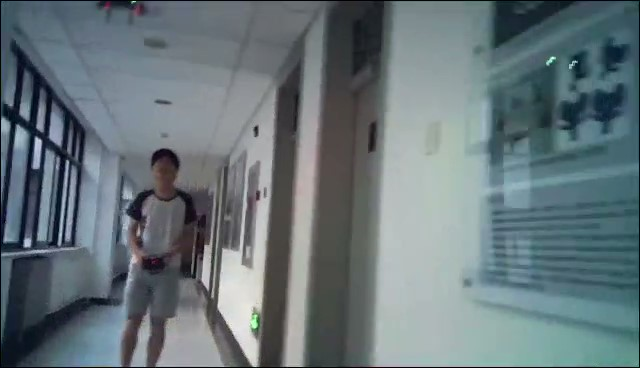drone: (93, 1, 151, 29)
person: (119, 146, 199, 368)
